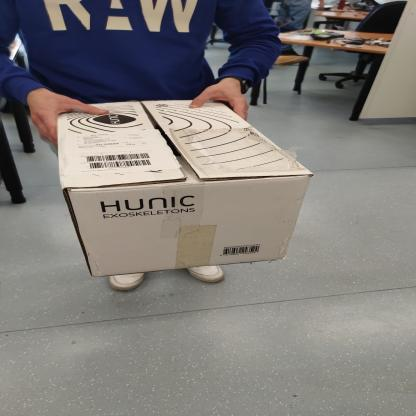-: (44, 85, 315, 291)
